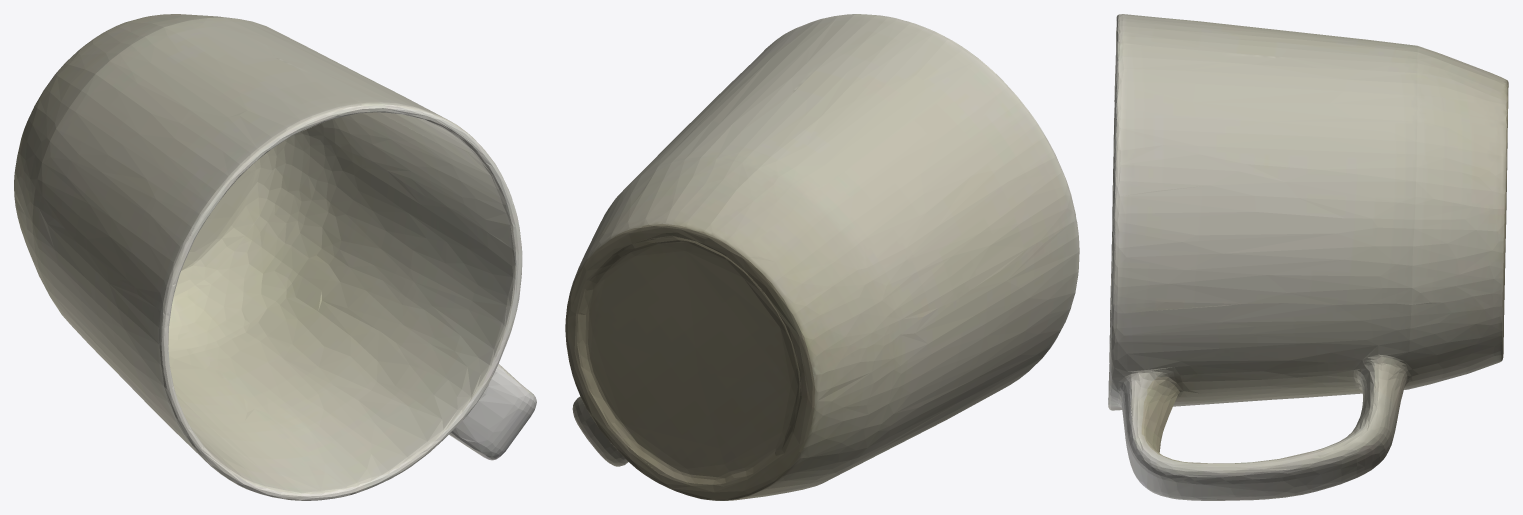
The model's file is mug2.glb.
3 views of the same model, side by side, from view 1: azimuth 30°, elevation 25°; view 2: azimuth 150°, elevation 25°; view 3: azimuth 270°, elevation 25° (orthographic). The views are drawn at different scales.
Parts seen in each view (by area): view 1: geometry_0; view 2: geometry_0; view 3: geometry_0.
Part boxes in pixels (x1,y1,x2,y2): geometry_0: (14,14,536,500); geometry_0: (565,14,1079,500); geometry_0: (1108,14,1508,500).
Bounding box in the file's own units: 0.0861 × 0.0847 × 0.0793.
1 material, 1 textured.
